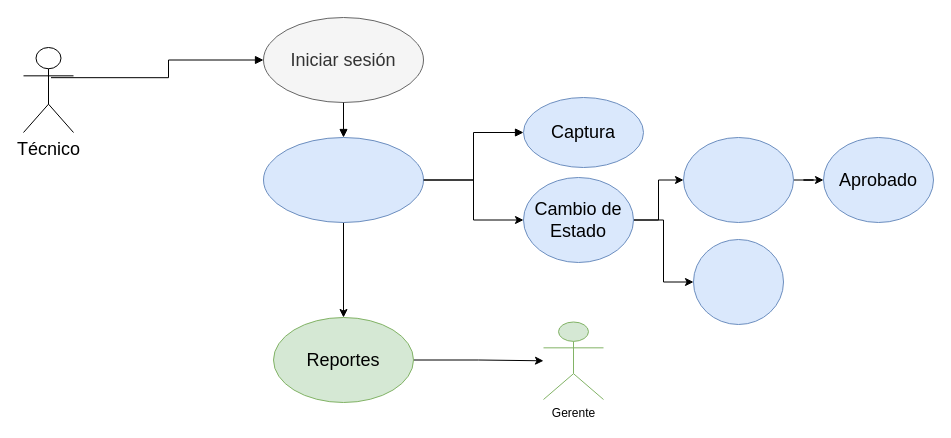
This 951x438 diagram has some shape labels left out. The centre of each missing label's shape, as x and y in pixels:
Administración de Liquidaciones: the point at 343,179
Rechazado: the point at 738,281
Revisado: the point at 738,179
